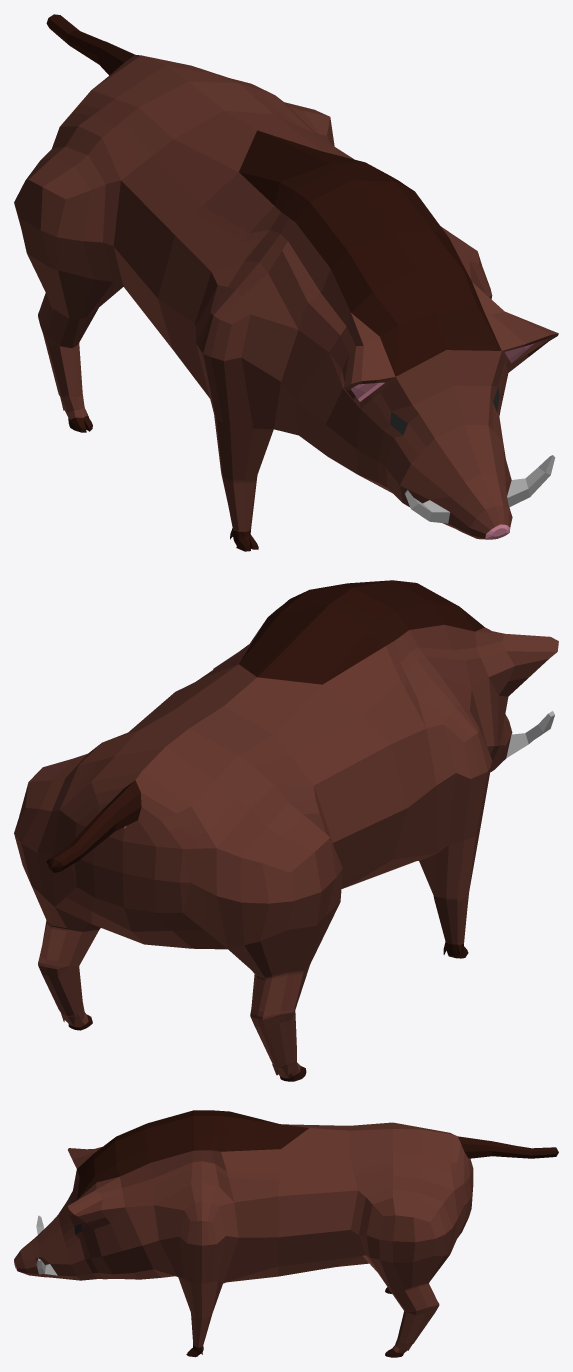
File: hog.fbx
The picture shows the model from 3 angles, top to bottom: view 1: azimuth 30°, elevation 25°; view 2: azimuth 150°, elevation 25°; view 3: azimuth 270°, elevation 25°; orthographic projection. The views are drawn at different scales.
Visible parts, largest first — view 1: jabali; view 2: jabali; view 3: jabali.
Part boxes in pixels (x1,y1,x2,y2): jabali: (14,14,558,551); jabali: (14,580,558,1081); jabali: (14,1110,558,1357).
Size of the model in its own units: 166 by 179 by 425.
